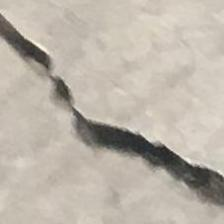Crack: (0, 8, 224, 222)
